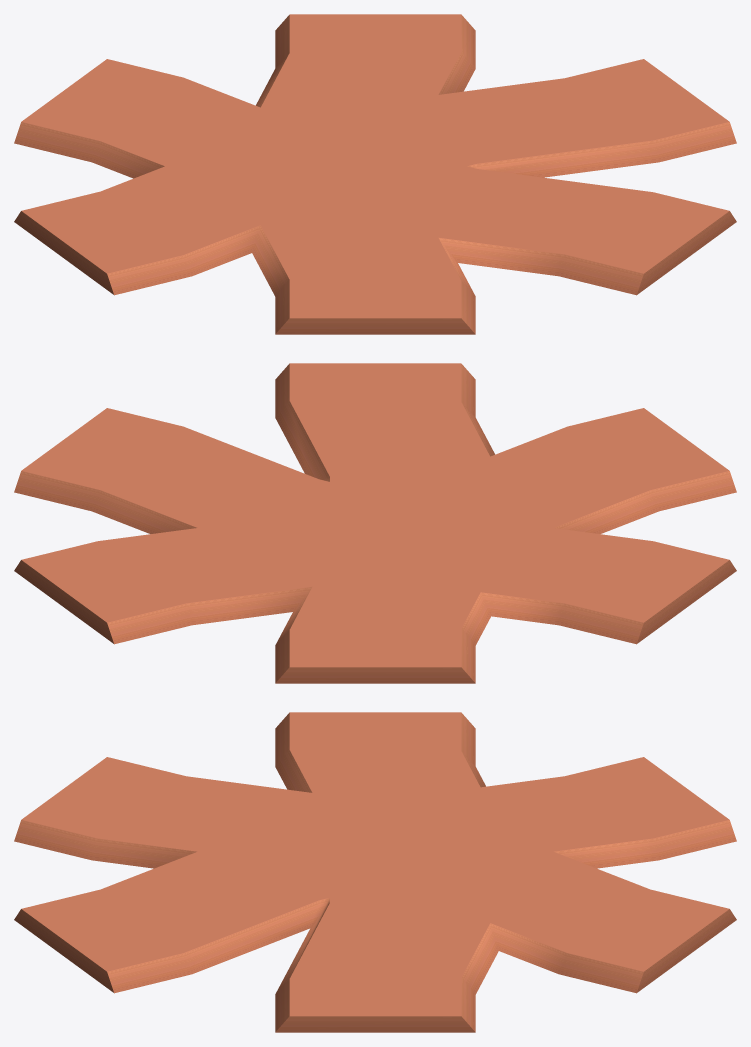
The model's file is path-crossing.glb.
3 renders of one model, top to bottom at view 1: azimuth 30°, elevation 25°; view 2: azimuth 150°, elevation 25°; view 3: azimuth 270°, elevation 25°, orthographic.
Parts seen in each view (by area): view 1: path-crossing; view 2: path-crossing; view 3: path-crossing.
Part boxes in pixels (box(x1,y1,x2,y2)): path-crossing: box(14, 14, 736, 334); path-crossing: box(14, 363, 736, 683); path-crossing: box(14, 712, 736, 1032).
Size of the model in its own units: 1 by 0.025 by 1.01.
Materials: 1 (1 with a texture image).
